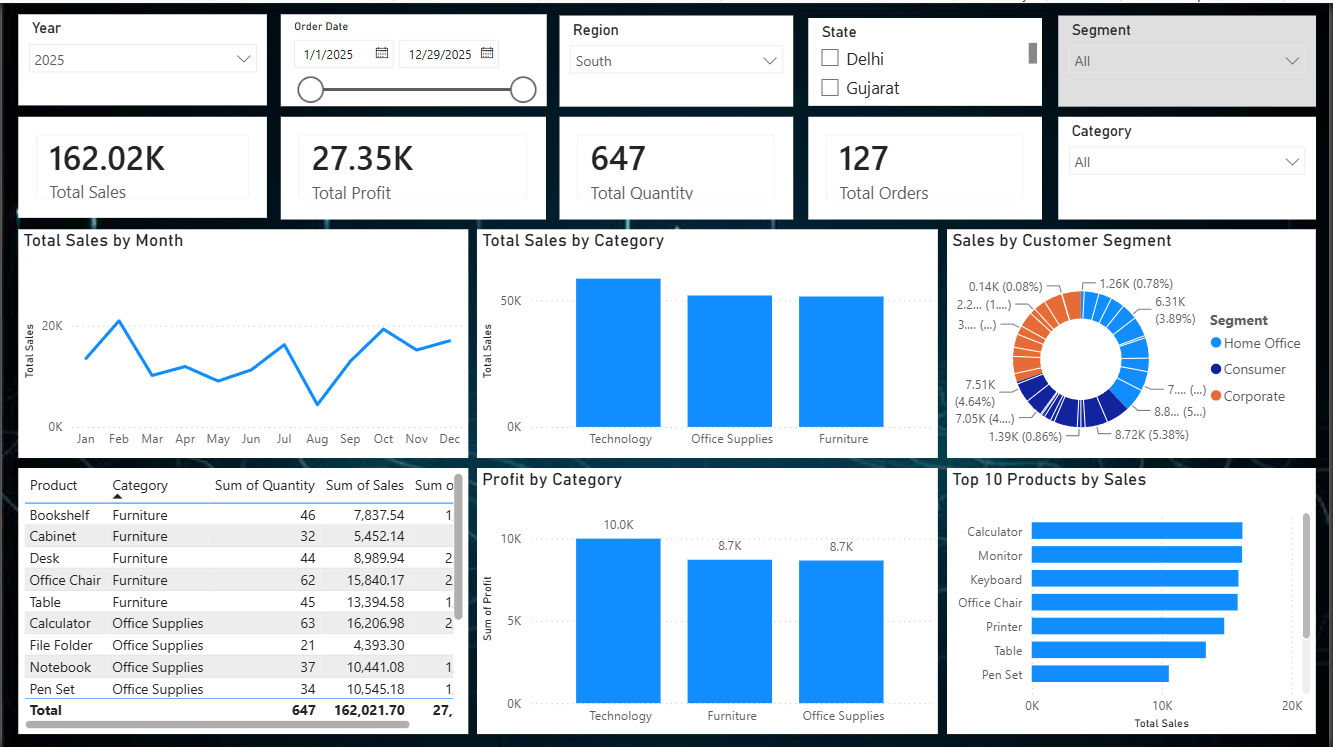

The page's visual inventory and layout, read from the dashboard file:
{"tool":"powerbi","page":{"name":"Page 1","canvas":[1280,720],"ordinal":0},"visuals":[{"type":"cardVisual","fields":{"Data":["Sheet1.Total Sales"]},"box":[15.7,109.8,240.1,97.7],"z":0},{"type":"cardVisual","fields":{"Data":["Sheet1.Total Profit"]},"box":[269,109.8,255.8,98.9],"z":1000},{"type":"cardVisual","fields":{"Data":["Sheet1.Total Quantity"]},"box":[538.1,109.8,225.6,98.9],"z":2000},{"type":"cardVisual","fields":{"Data":["Sheet1.Total Orders"]},"box":[778.2,109.8,225.6,98.9],"z":3000},{"type":"clusteredColumnChart","fields":{"Category":["Sheet1.Category"],"Y":["Sheet1.Total Sales"]},"box":[428.3,218.4,349.9,220.8],"z":4000},{"type":"clusteredBarChart","title":"Top 10 Products by Sales","fields":{"Category":["Sheet1.Product"],"Y":["Sheet1.Total Sales"]},"box":[912.1,448.8,355.9,257],"z":5000},{"type":"donutChart","title":"Sales by Customer Segment","fields":{"Category":["Sheet1.Segment"],"Y":["Sheet1.Total Sales"],"Series":["DateTable.Month"]},"box":[789,218.4,479,220.8],"z":6000},{"type":"tableEx","fields":{"Values":["Sheet1.Product","Sheet1.Category","Sum(Sheet1.Quantity)","Sum(Sheet1.Sales)","Sum(Sheet1.Profit)"]},"box":[15.7,448.8,434.3,257],"z":7000},{"type":"slicer","fields":{"Values":["Sheet1.Order Date"]},"box":[269,10.9,255.8,88.1],"z":8000},{"type":"slicer","fields":{"Values":["Sheet1.Region"]},"box":[538.1,12.1,225.6,88.1],"z":9000},{"type":"lineChart","fields":{"Category":["DateTable.Month"],"Y":["Sales.Total Sales"]},"box":[15.7,218.4,404.2,220.8],"z":10000},{"type":"slicer","fields":{"Values":["DateTable.Year"]},"box":[15.7,10.9,240.1,88.1],"z":11000},{"type":"slicer","fields":{"Values":["Sales.Category"]},"box":[1019.4,109.8,248.5,98.9],"z":12000},{"type":"slicer","fields":{"Values":["Sales.Segment"]},"box":[1019.4,12.1,248.5,88.1],"z":13000},{"type":"clusteredColumnChart","title":"Profit by Category","fields":{"Category":["Sales.Category"],"Y":["Sum(Sales.Profit)"]},"box":[458.4,448.8,445.2,257],"z":14000},{"type":"slicer","fields":{"Values":["Sales.State"]},"box":[778.2,14.5,225.6,84.5],"z":15000}]}

Visuals, with their boxes in screenshot pixels (x1, y1, x2, y2), scaled from the page's 1280x720 canvas onto the 1333x747 screenshot:
cardVisual - Sheet1.Total Sales: 16, 114, 266, 215
cardVisual - Sheet1.Total Profit: 280, 114, 547, 217
cardVisual - Sheet1.Total Quantity: 560, 114, 795, 217
cardVisual - Sheet1.Total Orders: 810, 114, 1045, 217
clusteredColumnChart - Sheet1.Category x Sheet1.Total Sales: 446, 227, 810, 456
"Top 10 Products by Sales" clusteredBarChart: 950, 466, 1321, 732
"Sales by Customer Segment" donutChart: 822, 227, 1321, 456
tableEx - Sheet1.Product x Sheet1.Category: 16, 466, 469, 732
slicer - Sheet1.Order Date: 280, 11, 547, 103
slicer - Sheet1.Region: 560, 13, 795, 104
lineChart - DateTable.Month x Sales.Total Sales: 16, 227, 437, 456
slicer - DateTable.Year: 16, 11, 266, 103
slicer - Sales.Category: 1062, 114, 1320, 217
slicer - Sales.Segment: 1062, 13, 1320, 104
"Profit by Category" clusteredColumnChart: 477, 466, 941, 732
slicer - Sales.State: 810, 15, 1045, 103
